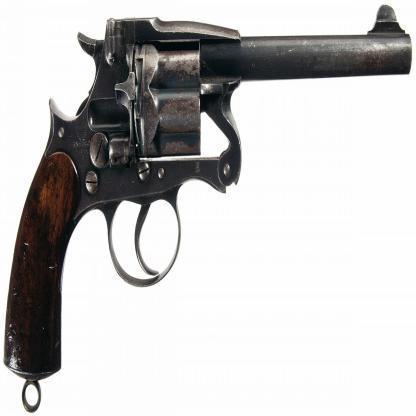gun: (0, 5, 414, 389)
